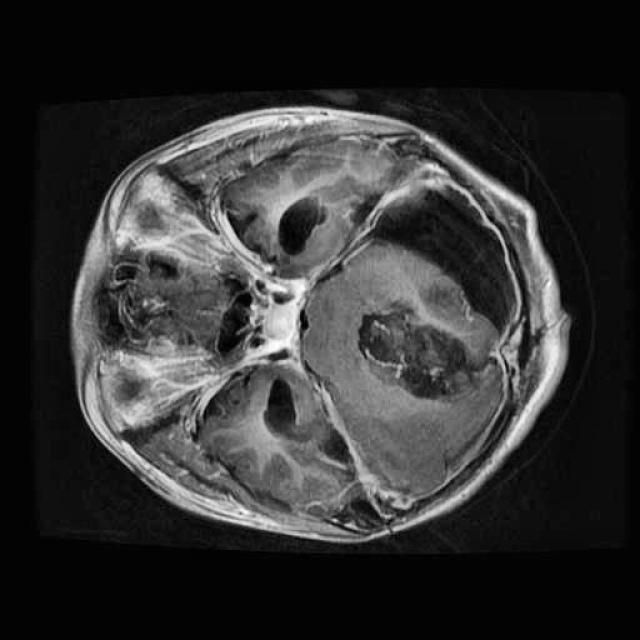Tumor: (348, 289, 497, 416)
